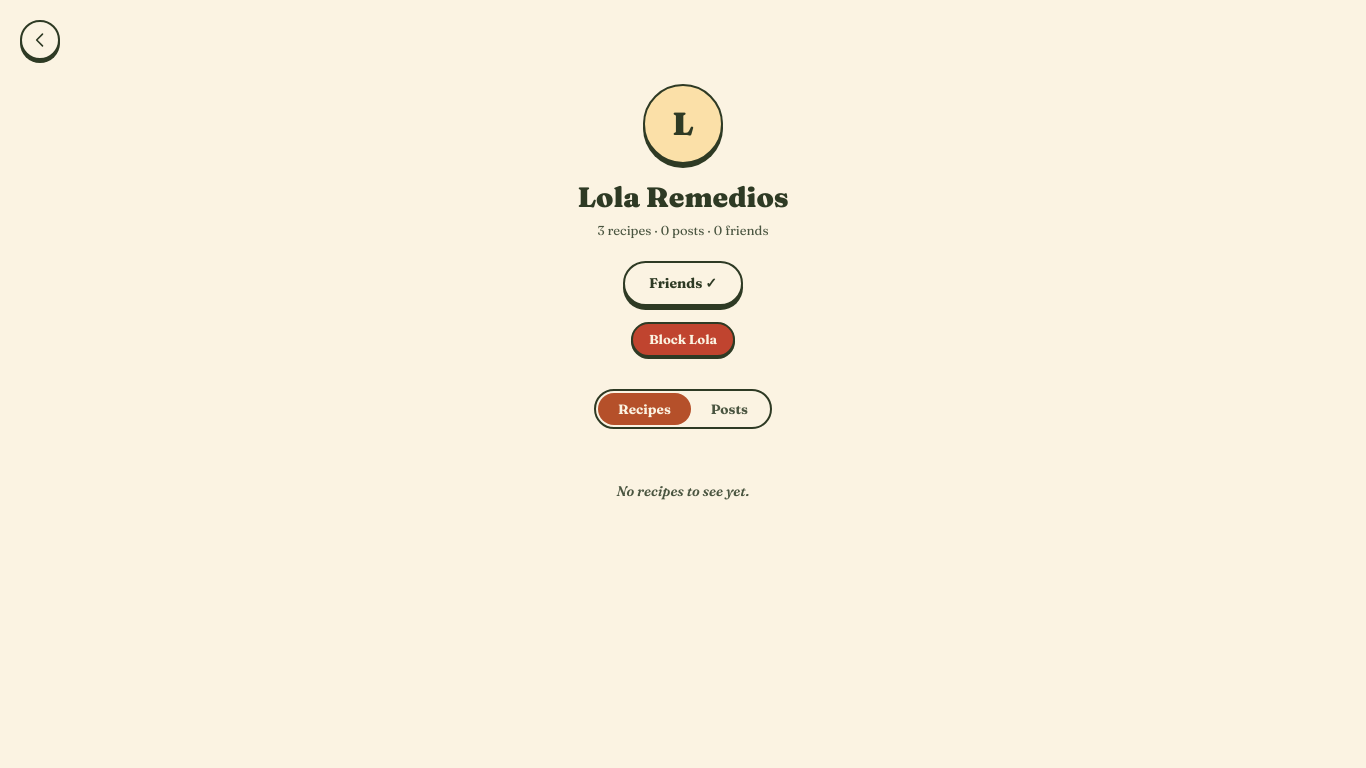
it: UserProfile — blocking › asks first, and names every consequence before doing it
This screenshot has width=1366, height=768.
Click the button "Block Lola". click: point(683, 339)
box: [631,322,735,357]
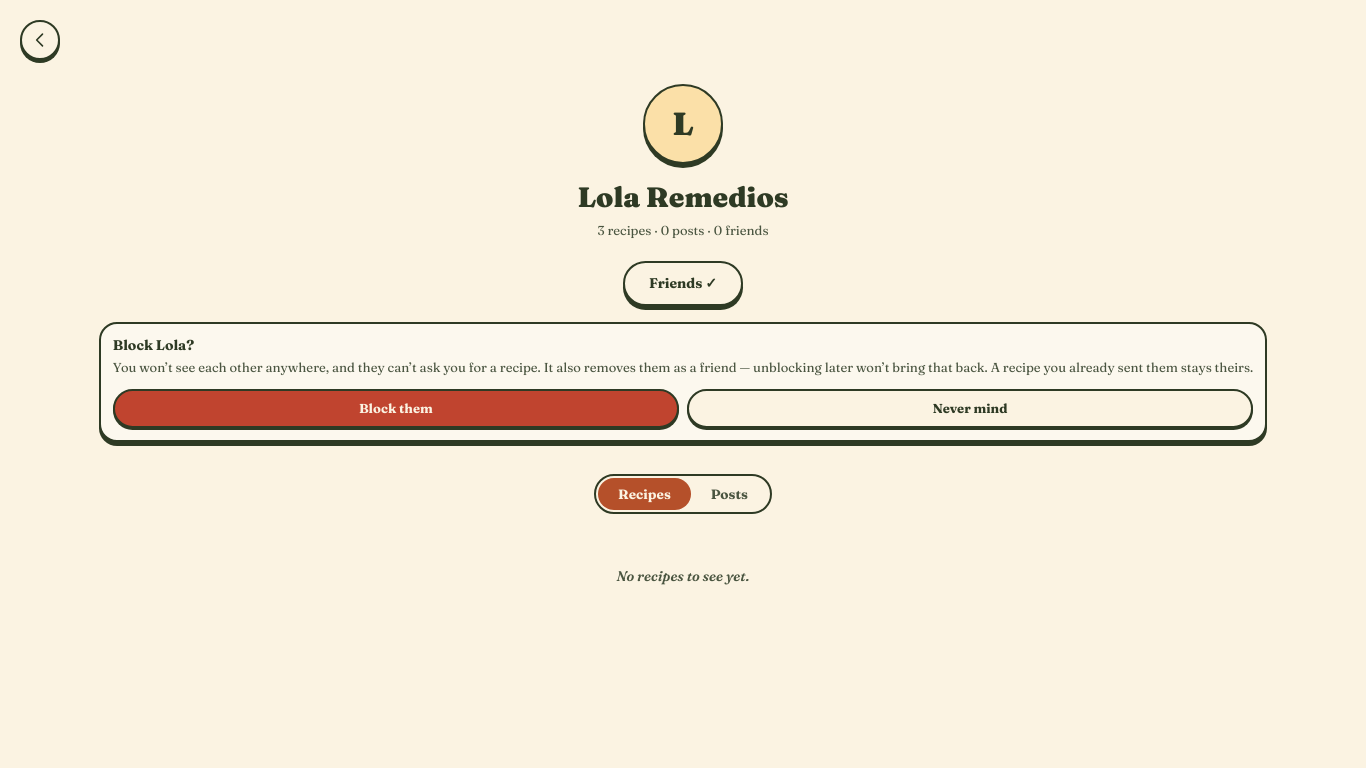
Expected: the text "removes them as a friend" is shown, [113,359,737,375]
